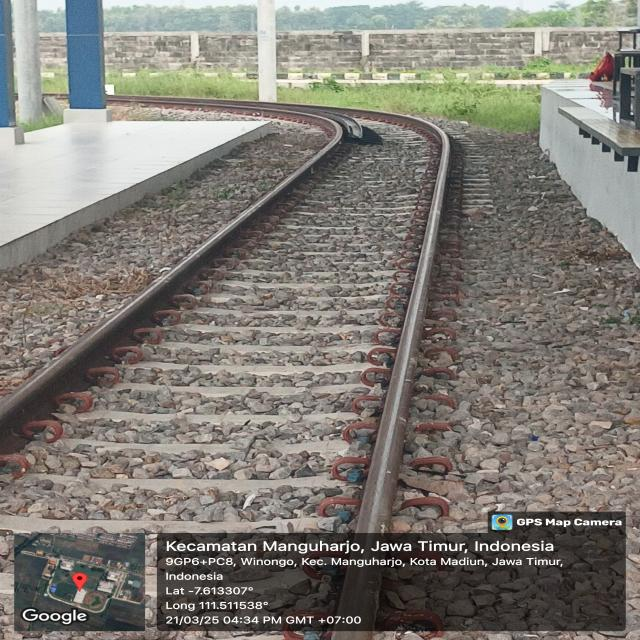rail-detection: (0, 100, 363, 435), (354, 111, 450, 558), (334, 560, 381, 640)
